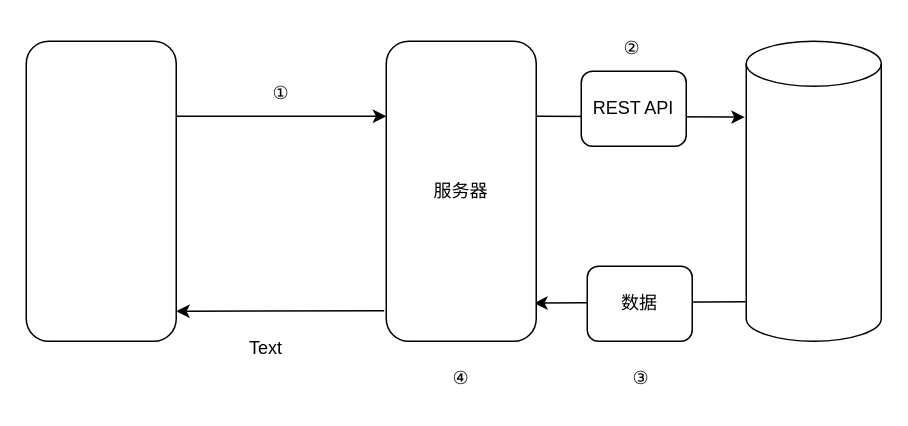
This 908x426 diagram has some shape labels left out. The centre of each missing label's shape, as x and y in pixels:
"数据库" belongs at point 813,190.
"浏览器" belongs at point 100,190.
